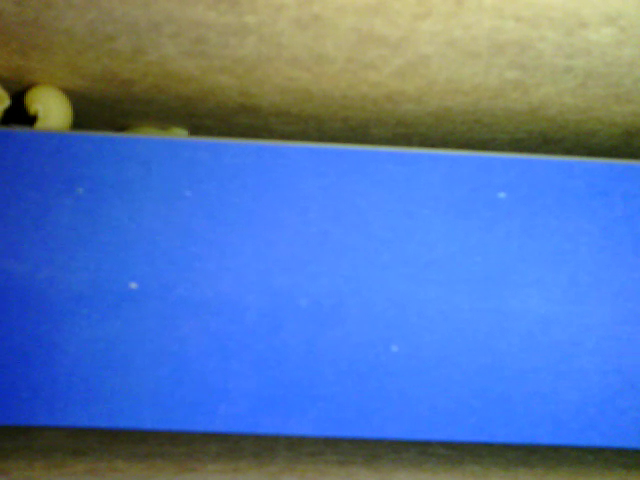shell: (25, 84, 74, 134)
